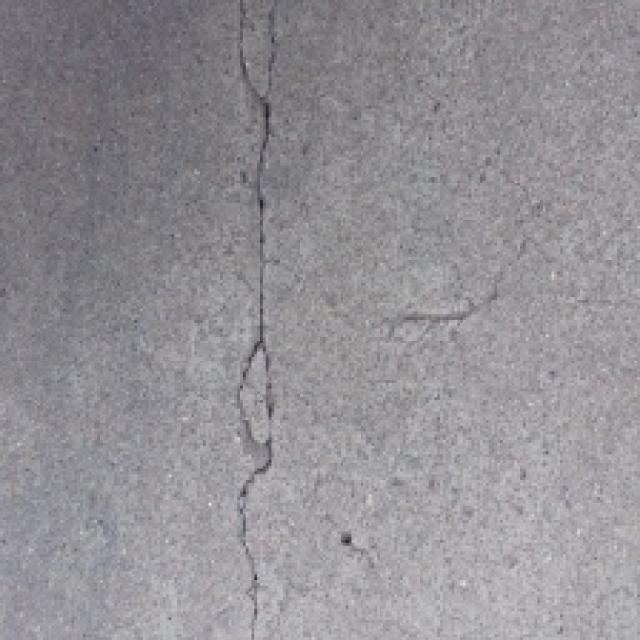crack: (182, 0, 316, 640)
